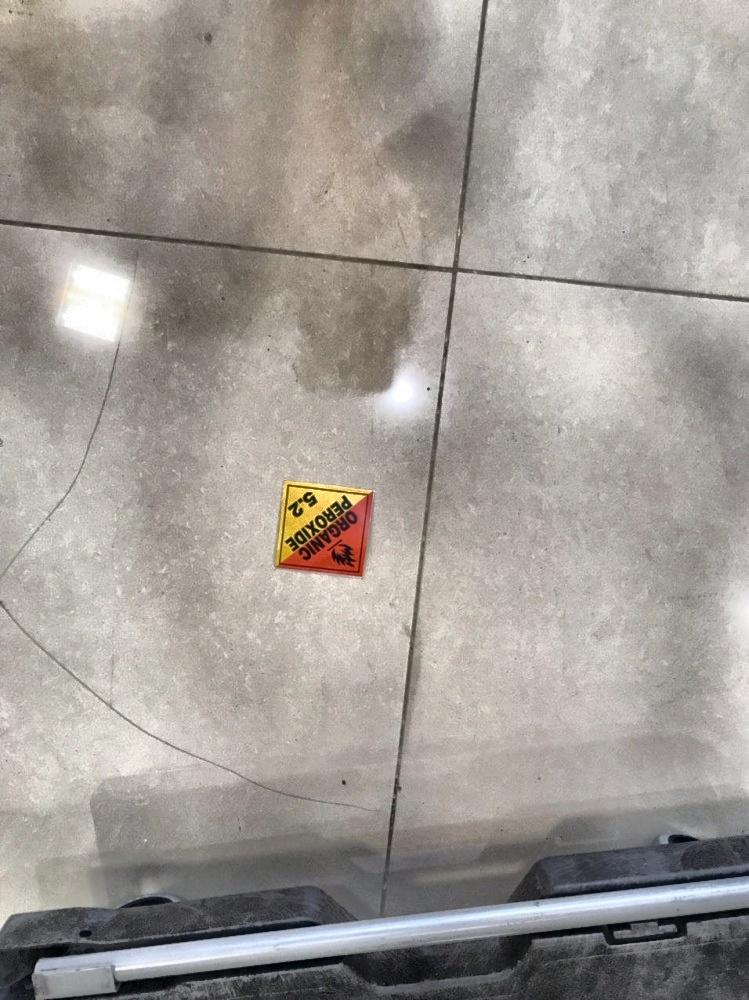organic-peroxide: (274, 482, 377, 585)
